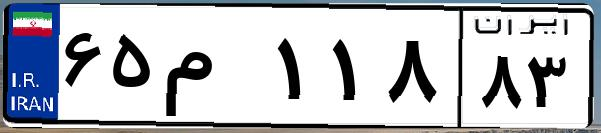1: (270, 28, 330, 110), (330, 28, 385, 110)
3: (525, 38, 570, 115)
5: (110, 28, 158, 98)
6: (57, 26, 110, 100)
8: (385, 28, 445, 110), (475, 38, 525, 113)
م: (158, 20, 270, 120)
